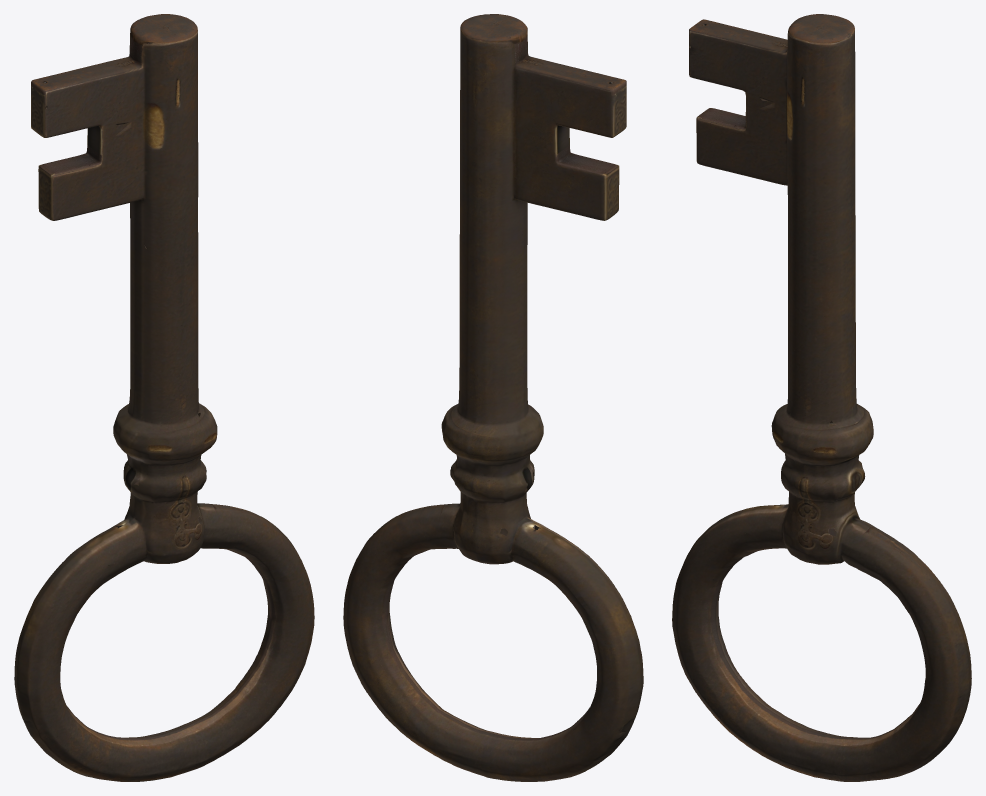
File: Key_to_the_Past_0723213633_texture.fbx
3 views of the same model, side by side, from view 1: azimuth 30°, elevation 25°; view 2: azimuth 150°, elevation 25°; view 3: azimuth 330°, elevation 25° (orthographic).
Parts seen in each view (by area): view 1: Mesh_0; view 2: Mesh_0; view 3: Mesh_0.
Part boxes in pixels (left/top/right/bottom): Mesh_0: left=14, top=14, right=314, bottom=781; Mesh_0: left=343, top=14, right=643, bottom=781; Mesh_0: left=672, top=14, right=971, bottom=781.
Size of the model in its own units: 82.07 by 200 by 24.99.
Materials: 1 (1 with a texture image).
